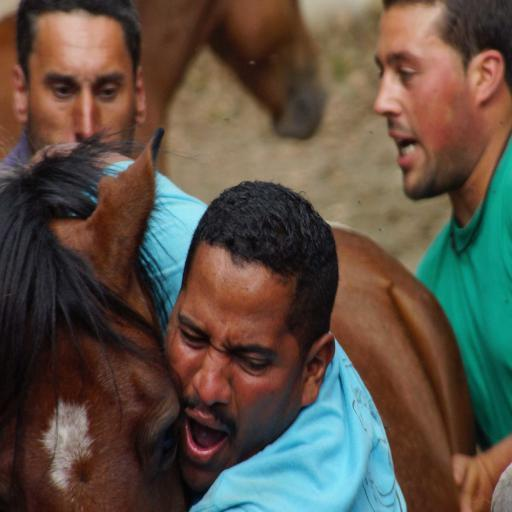Horse: (0, 118, 477, 512), (0, 0, 329, 175)
